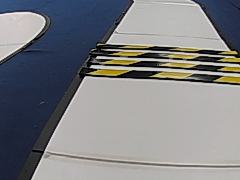bump: (76, 40, 240, 88)
